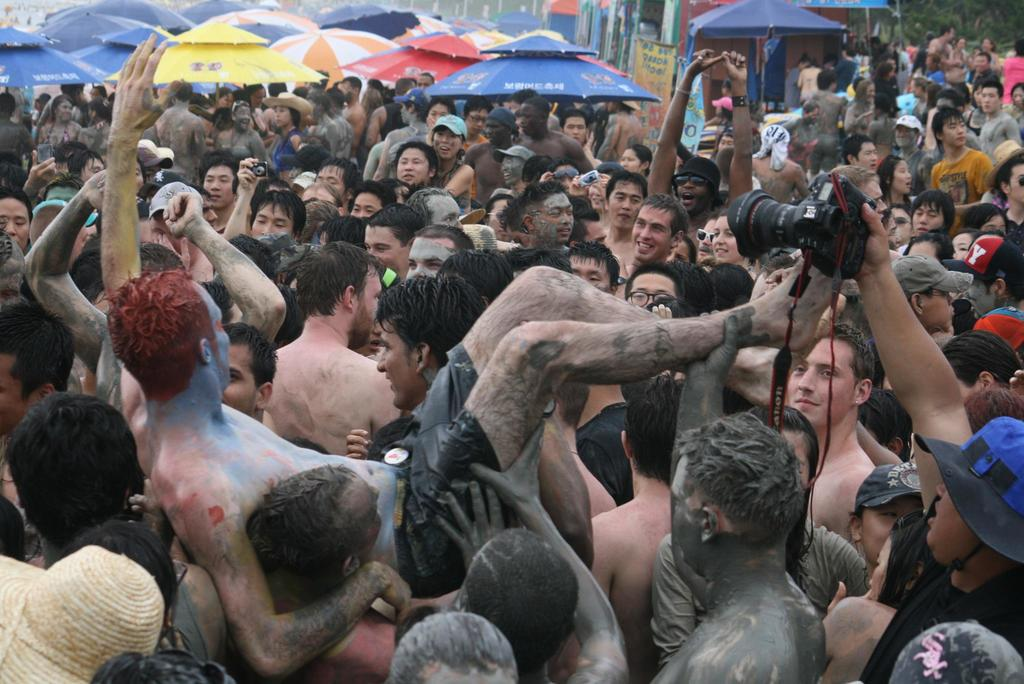face: (362, 224, 406, 277)
